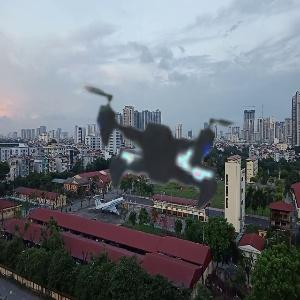drone: (25, 17, 299, 291)
